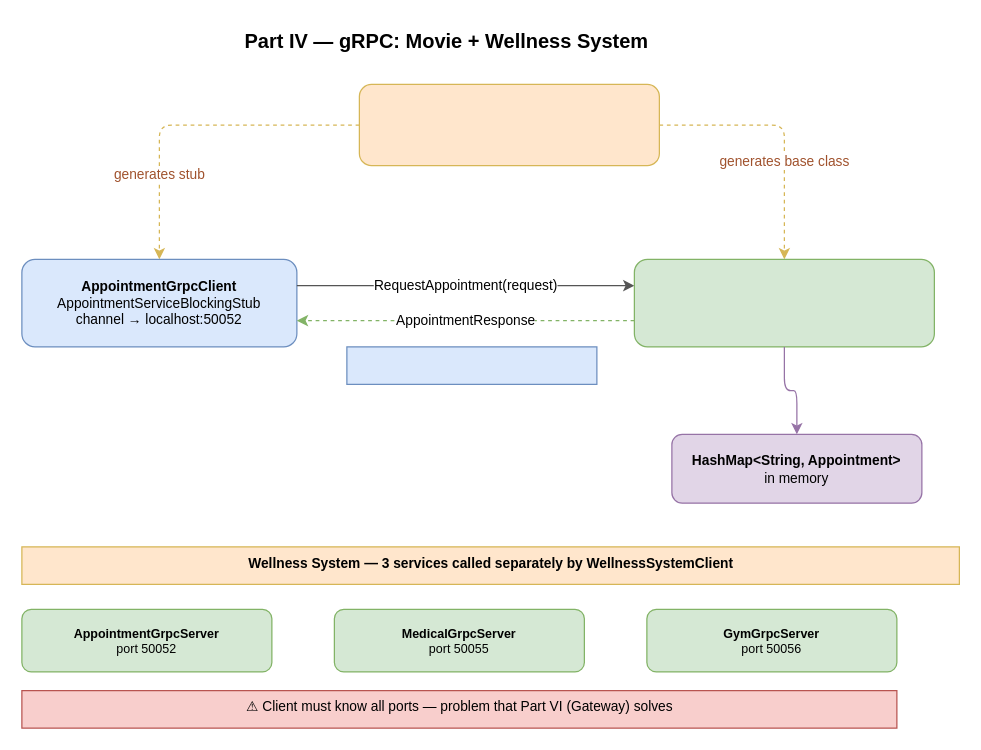
This 981x750 diagram has some shape labels left out. The shapes that lost their labels are listed below. From the top down, each one's centre as x and y in pixels, then its label:
the point at 508,124: movie.proto defines services + messages → mvn compile → generated classes
the point at 783,302: AppointmentGrpcServer port 50052 extends AppointmentServiceGrpc.Impl
the point at 471,365: HTTP/2 + Protocol Buffers
